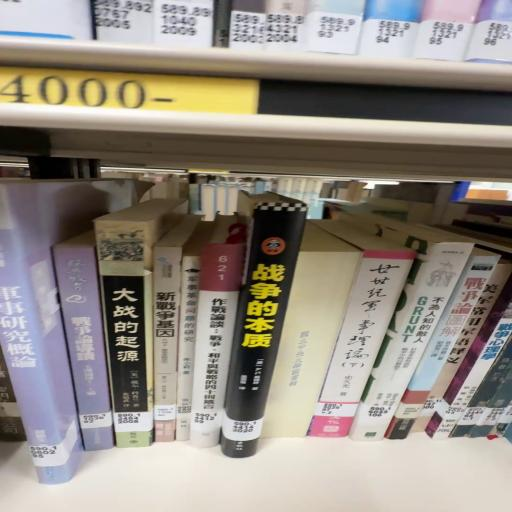backward: (259, 222, 360, 451)
book: (1, 180, 82, 487), (307, 252, 419, 445), (53, 233, 121, 451), (193, 235, 250, 453)
